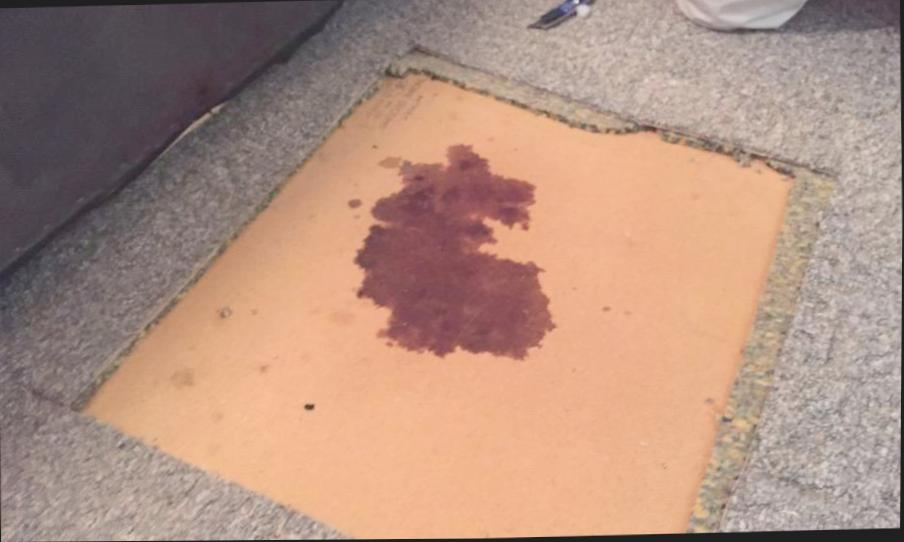Fire: (352, 144, 556, 361)
